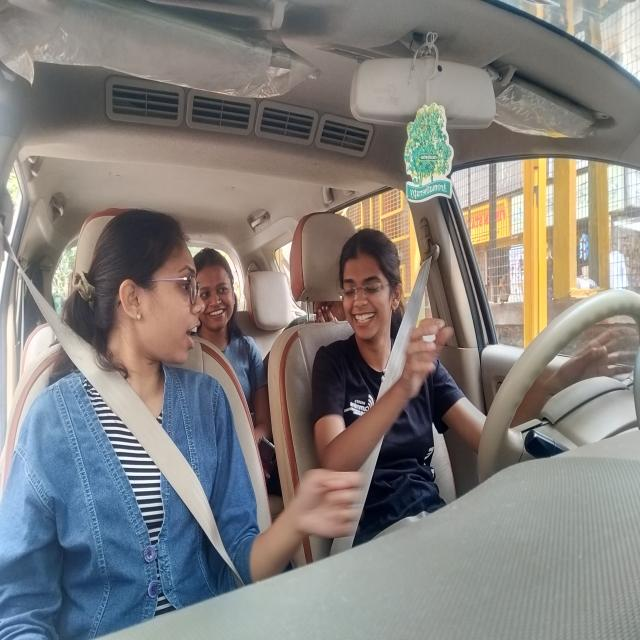LeftRight: (338, 235, 402, 346)
person: (94, 208, 206, 365), (197, 247, 239, 338)
talking: (184, 319, 203, 352), (352, 311, 376, 331)
